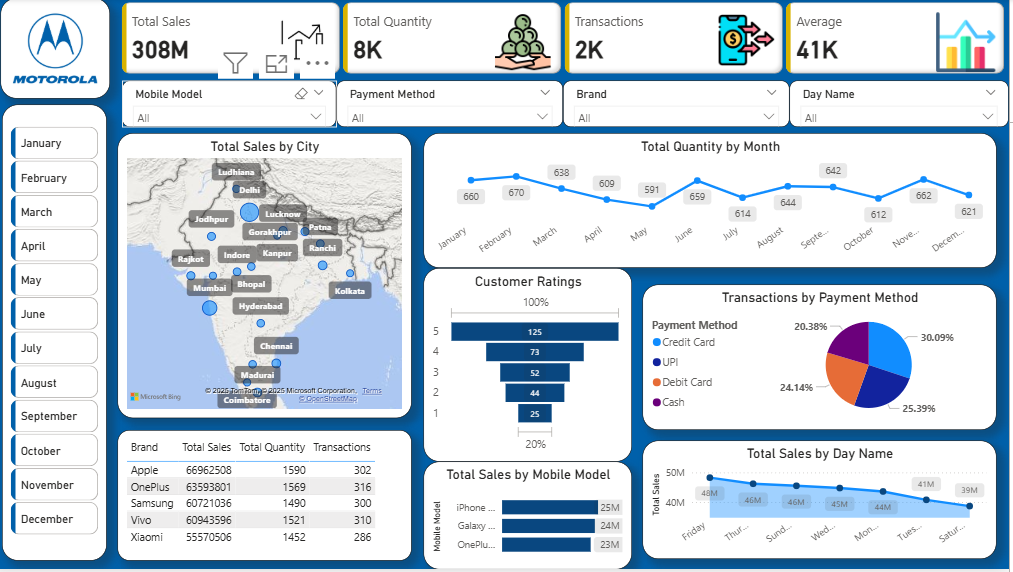

What the dashboard file says about the page in this screenshot:
{"tool":"powerbi","page":{"name":"Page 1","canvas":[1280,720],"ordinal":0},"visuals":[{"type":"shape","box":[9.4,0,138,126.6],"z":0},{"type":"image","box":[17,13.2,122.8,100.2],"z":1000},{"type":"shape","box":[11.3,134.2,132.3,574.5],"z":2000},{"type":"advancedSlicerVisual","fields":{"Values":["Sales_Data.Date.Variation.Date Hierarchy.Month"]},"box":[17,156.9,120.9,531],"z":3000},{"type":"cardVisual","fields":{"Data":["Sales_Data.Total Sales","Sales_Data.Total Quantity","Sales_Data.Transactions","Sales_Data.Average"]},"box":[156.9,0,1122.5,100.2],"z":4000},{"type":"map","fields":{"Category":["Sales_Data.City"],"Size":["Sales_Data.Total Sales"]},"box":[156.9,170.1,370.4,359.1],"z":5000},{"type":"lineChart","fields":{"Category":["Sales_Data.Date.Variation.Date Hierarchy.Month"],"Y":["Sales_Data.Total Quantity"]},"box":[542.4,170.1,721.9,170.1],"z":6000},{"type":"clusteredBarChart","fields":{"Category":["Sales_Data.Mobile Model"],"Y":["Sales_Data.Total Sales"]},"box":[542.4,583.9,262.7,136.1],"z":7000},{"type":"pieChart","fields":{"Category":["Sales_Data.Payment Method"],"Y":["Sales_Data.Transactions"]},"box":[818.3,360.9,446,183.3],"z":8000},{"type":"funnel","title":" Customer Ratings","fields":{"Category":["Sales_Data.Customer Ratings"],"Y":["CountNonNull(Sales_Data.Customer Ratings)"]},"box":[542.4,340.2,262.7,243.8],"z":9000},{"type":"areaChart","fields":{"Category":["Sales_Data.Day Name"],"Y":["Sales_Data.Total Sales"]},"box":[818.3,557.5,446,149.3],"z":10000},{"type":"tableEx","fields":{"Values":["Sales_Data.Brand","Sales_Data.Total Sales","Sales_Data.Total Quantity","Sales_Data.Transactions"]},"box":[156.9,544.3,370.4,164.4],"z":11000},{"type":"slicer","fields":{"Values":["Sales_Data.Mobile Model"]},"box":[162.5,103.9,270.2,58.6],"z":12000},{"type":"slicer","fields":{"Values":["Sales_Data.Payment Method"]},"box":[432.8,103.9,285.4,58.6],"z":13000},{"type":"slicer","fields":{"Values":["Sales_Data.Brand"]},"box":[718.1,103.9,285.4,58.6],"z":14000},{"type":"slicer","fields":{"Values":["Sales_Data.Day Name"]},"box":[1003.5,103.9,275.9,58.6],"z":15000}]}

Visuals, with their boxes in screenshot pixels (x1, y1, x2, y2), scaled from the page's 1280x720 canvas onto the 1013x572 screenshot:
shape: 7,0,117,101
image: 13,10,111,90
shape: 9,107,114,563
advancedSlicerVisual - Sales_Data.Date.Variation.Date Hierarchy.Month: 13,125,109,546
cardVisual - Sales_Data.Total Sales x Sales_Data.Total Quantity: 124,0,1012,80
map - Sales_Data.City x Sales_Data.Total Sales: 124,135,417,420
lineChart - Sales_Data.Date.Variation.Date Hierarchy.Month x Sales_Data.Total Quantity: 429,135,1001,270
clusteredBarChart - Sales_Data.Mobile Model x Sales_Data.Total Sales: 429,464,637,571
pieChart - Sales_Data.Payment Method x Sales_Data.Transactions: 648,287,1001,432
" Customer Ratings" funnel: 429,270,637,464
areaChart - Sales_Data.Day Name x Sales_Data.Total Sales: 648,443,1001,562
tableEx - Sales_Data.Brand x Sales_Data.Total Sales: 124,432,417,563
slicer - Sales_Data.Mobile Model: 129,83,342,129
slicer - Sales_Data.Payment Method: 343,83,568,129
slicer - Sales_Data.Brand: 568,83,794,129
slicer - Sales_Data.Day Name: 794,83,1012,129
